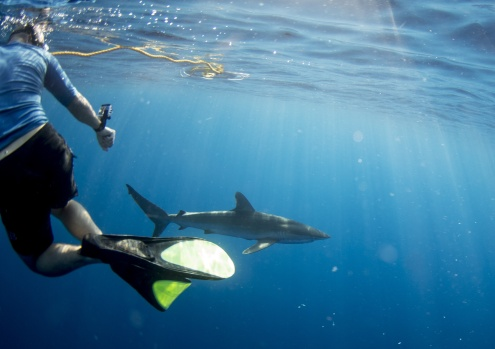Sedoso: (115, 179, 331, 255)
